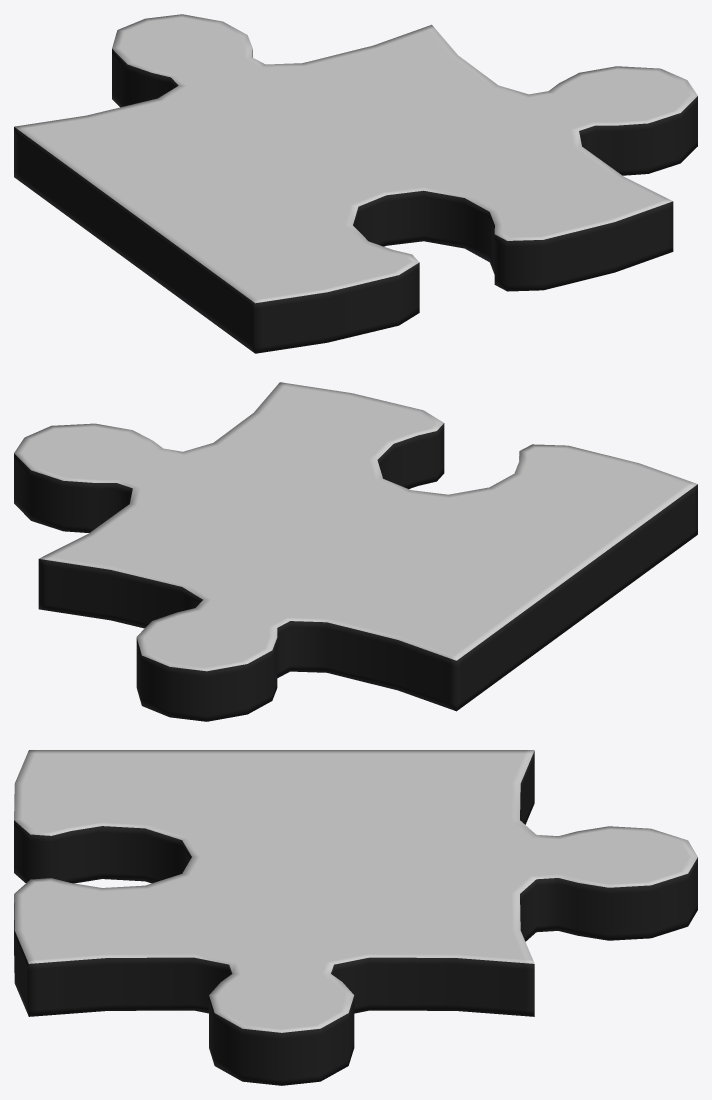
File: puzzle60.fbx
3 views of the same model, one above another, from view 1: azimuth 30°, elevation 25°; view 2: azimuth 150°, elevation 25°; view 3: azimuth 270°, elevation 25° (orthographic). The views are drawn at different scales.
Parts seen in each view (by area): view 1: puzzle60; view 2: puzzle60; view 3: puzzle60.
Boxes of the visible parts, bbox=[...] form: puzzle60: bbox=[14, 14, 697, 353]; puzzle60: bbox=[14, 382, 697, 721]; puzzle60: bbox=[14, 750, 697, 1085].
Size of the model in its own units: 3.94 by 0.344 by 4.03.
